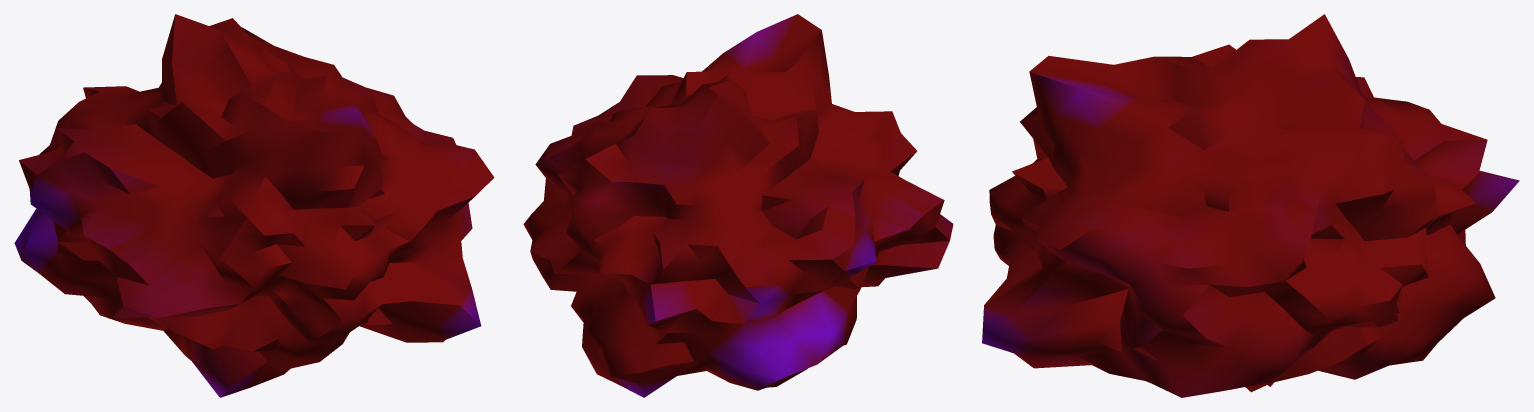
The model's file is asteroid_3.fbx.
3 views of the same model, side by side, from view 1: azimuth 30°, elevation 25°; view 2: azimuth 150°, elevation 25°; view 3: azimuth 270°, elevation 25° (orthographic). The views are drawn at different scales.
Visible parts, largest first — view 1: asteroid_3; view 2: asteroid_3; view 3: asteroid_3.
Part boxes in pixels (<box>): asteroid_3: <box>14,14,494,397</box>; asteroid_3: <box>523,14,953,397</box>; asteroid_3: <box>982,14,1519,397</box>.
Bounding box in the file's own units: 2.09 × 1.65 × 2.33.
